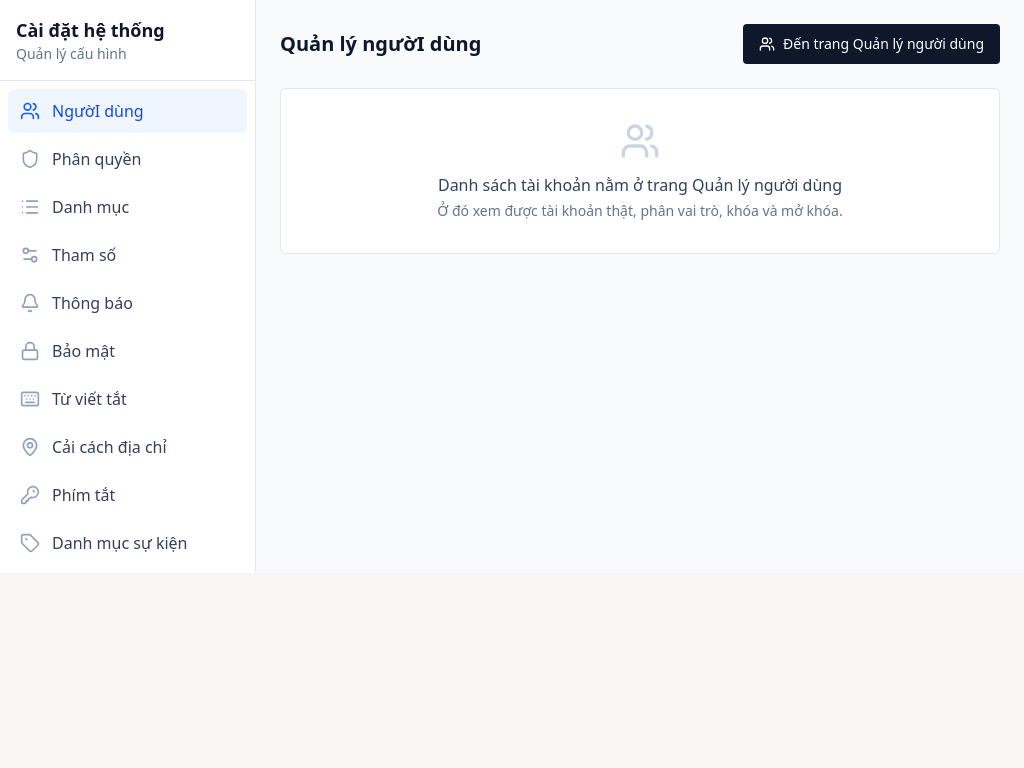
Test case: SettingsPage › should switch to parameters module when clicking menu
The image size is (1024, 768).
Click the button with test id "settings-menu-parameters" at (128, 255), box [8,233,247,277]
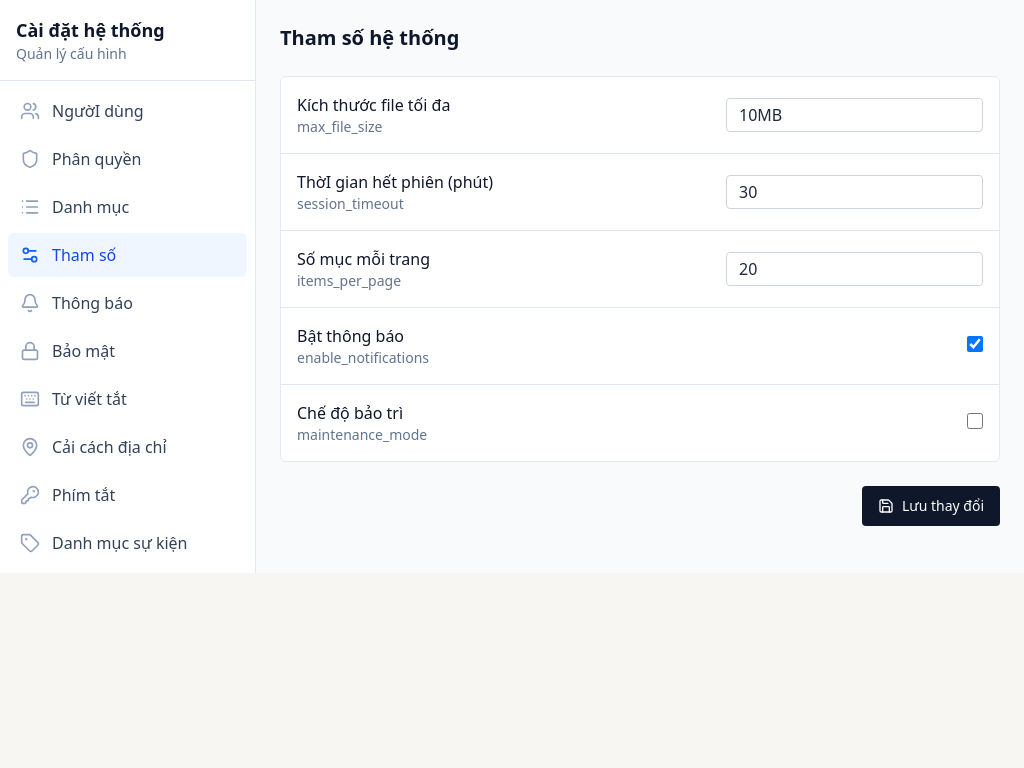
Expected: the heading "Tham số hệ thống" is shown, [280,24,459,51]
